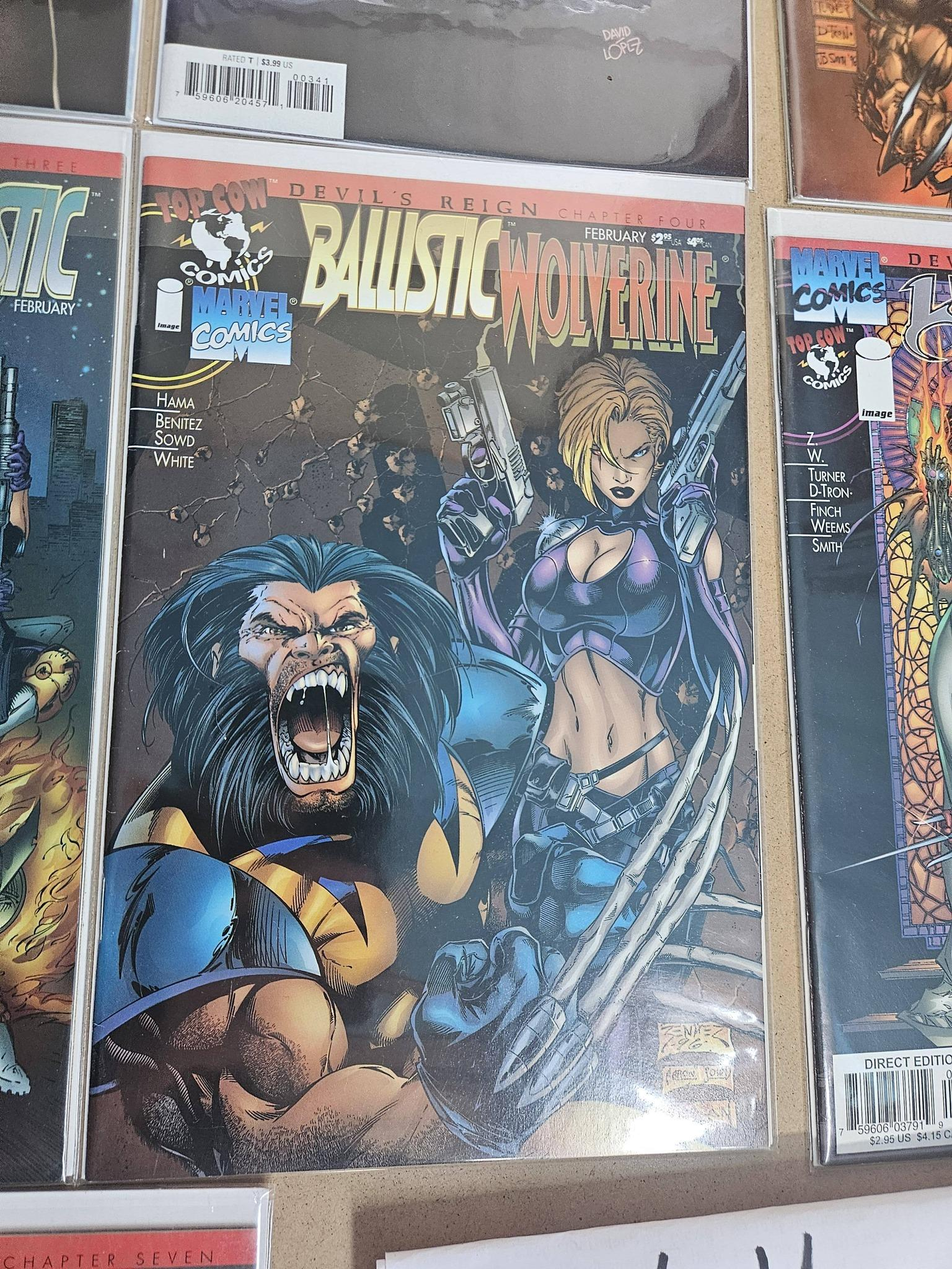comic: (86, 133, 811, 1210)
